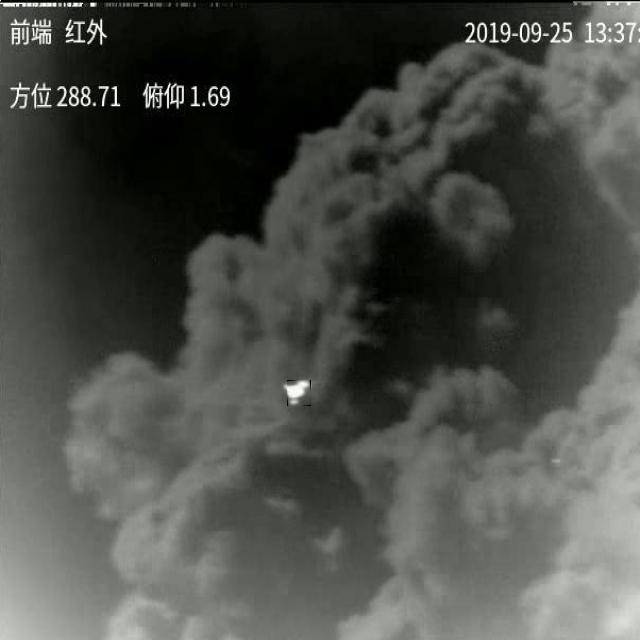drone: (288, 380, 312, 406)
